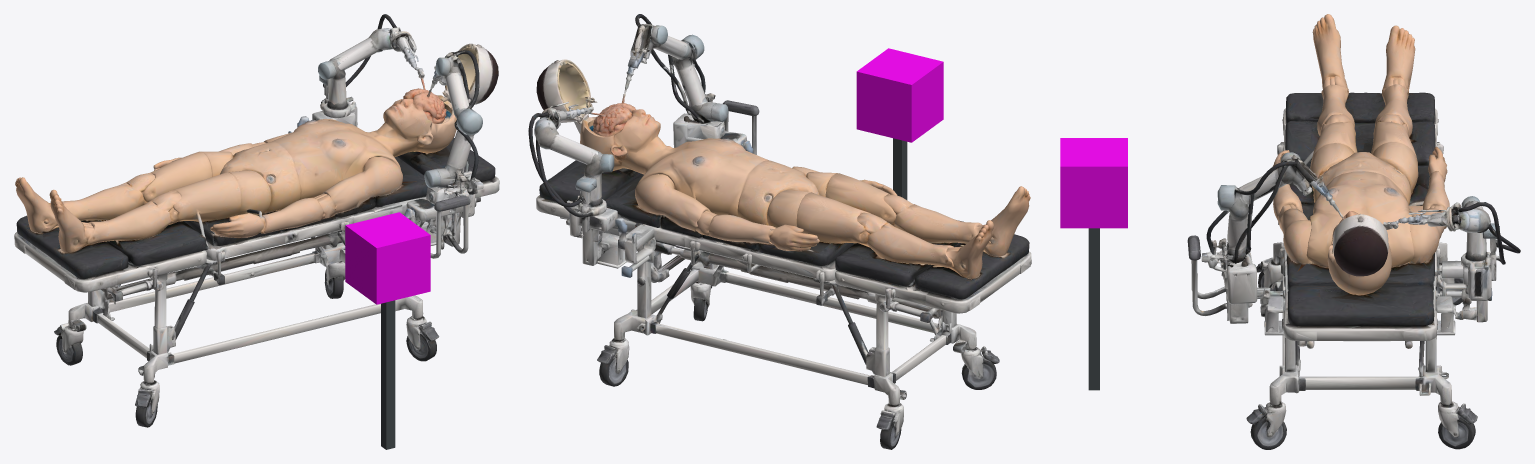
File: cortex.glb
3 views of the same model, side by side, from view 1: azimuth 30°, elevation 25°; view 2: azimuth 150°, elevation 25°; view 3: azimuth 270°, elevation 25° (orthographic). The views are drawn at different scales.
Visible parts, largest first — view 1: cortex, pad_proxy, pad; view 2: cortex, pad_proxy, pad; view 3: cortex, pad_proxy, pad.
Part boxes in pixels (box(x1,y1,x2,y2)): cortex: box(14, 14, 499, 427); pad_proxy: box(345, 212, 430, 304); pad: box(381, 300, 395, 449); cortex: box(528, 14, 1031, 449); pad_proxy: box(856, 48, 943, 142); pad: box(893, 138, 907, 199); cortex: box(1187, 14, 1520, 449); pad_proxy: box(1060, 138, 1127, 228); pad: box(1088, 228, 1099, 390).
Bounding box in the file's own units: 2.55 × 1.54 × 2.04.
Materials: 4 (1 with a texture image).
